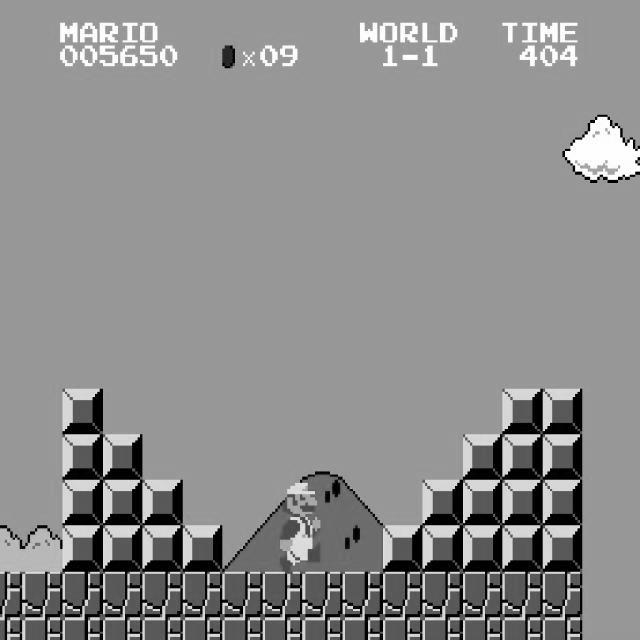17- undestructible_block: (22, 572, 63, 618), (62, 572, 103, 618), (102, 572, 143, 618), (142, 572, 183, 618), (182, 572, 223, 618), (222, 572, 263, 618), (262, 572, 303, 618), (302, 572, 343, 618), (342, 572, 383, 618), (382, 572, 423, 618), (422, 572, 463, 618), (462, 572, 503, 618), (502, 572, 543, 618), (542, 572, 583, 618), (0, 572, 22, 618), (22, 617, 63, 640), (62, 617, 103, 640), (102, 617, 143, 640), (142, 617, 183, 640), (182, 617, 223, 640), (222, 617, 263, 640), (262, 617, 303, 640), (302, 617, 343, 640), (342, 617, 383, 640), (382, 617, 423, 640), (422, 617, 463, 640), (462, 617, 503, 640), (502, 617, 543, 640), (542, 617, 583, 640), (0, 617, 22, 640)
4- fire_mario: (277, 480, 320, 574)
9- hard_block: (62, 388, 103, 434), (62, 434, 103, 480), (62, 480, 103, 526), (62, 526, 103, 572), (102, 434, 143, 480), (102, 480, 143, 526), (102, 526, 143, 572), (142, 480, 183, 526), (142, 526, 183, 572), (182, 526, 223, 572), (382, 526, 423, 572), (422, 480, 463, 526), (422, 526, 463, 572), (462, 434, 503, 480), (462, 480, 503, 526), (462, 526, 503, 572), (502, 388, 543, 434), (502, 434, 543, 480), (502, 480, 543, 526), (502, 526, 543, 572), (542, 388, 583, 434), (542, 434, 583, 480), (542, 480, 583, 526), (542, 526, 583, 572)
